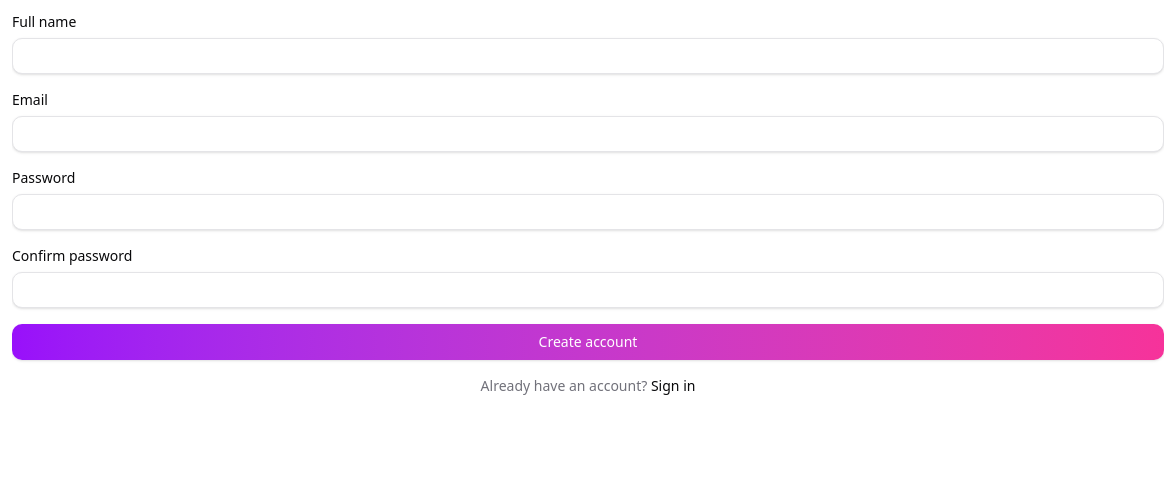
RegisterForm › shows validation errors for empty required fields
The width and height of the screenshot is (1176, 490).
What coordinates should you click on to do the following:
click the button "Create account"
I would click on:
 (588, 342)
Its box is [12, 324, 1164, 360].
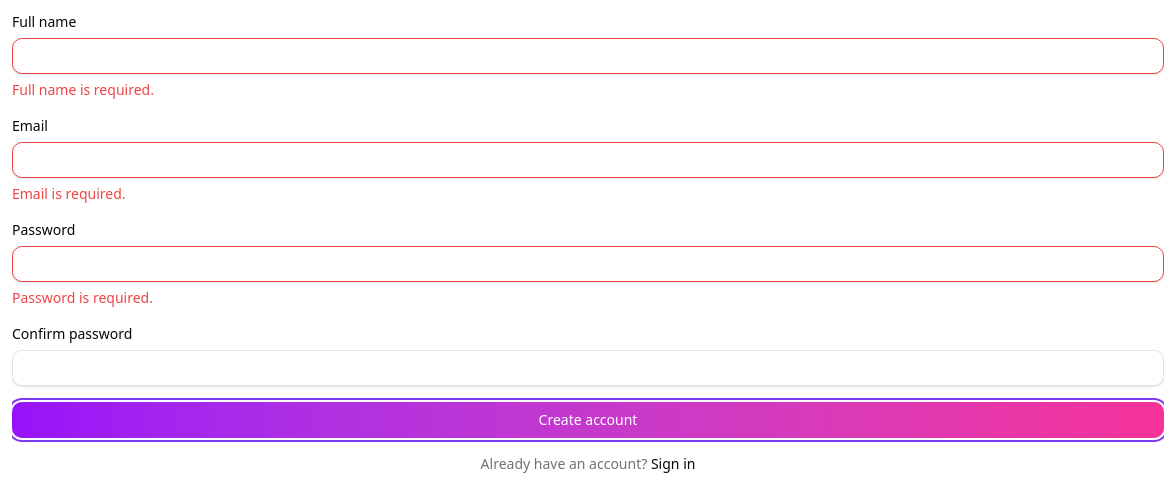
Check: the text "Full name is required." is shown, box [12, 80, 154, 99]
Check: the text "Email is required." is shown, box [12, 184, 126, 203]
Check: the text "Password is required." is shown, box [12, 288, 153, 307]
